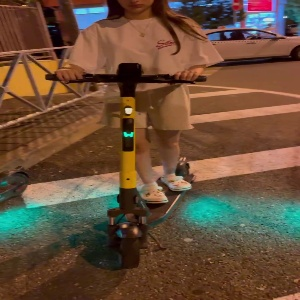human on a scooter: (45, 1, 225, 271)
